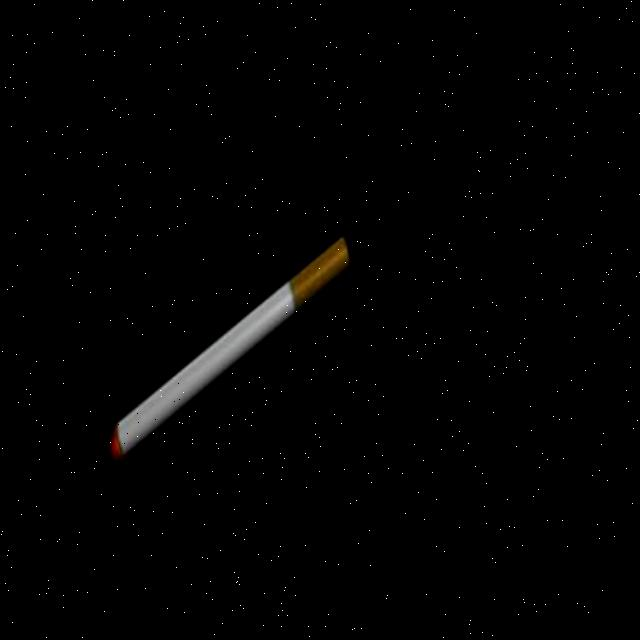cigarette: (114, 237, 355, 461)
